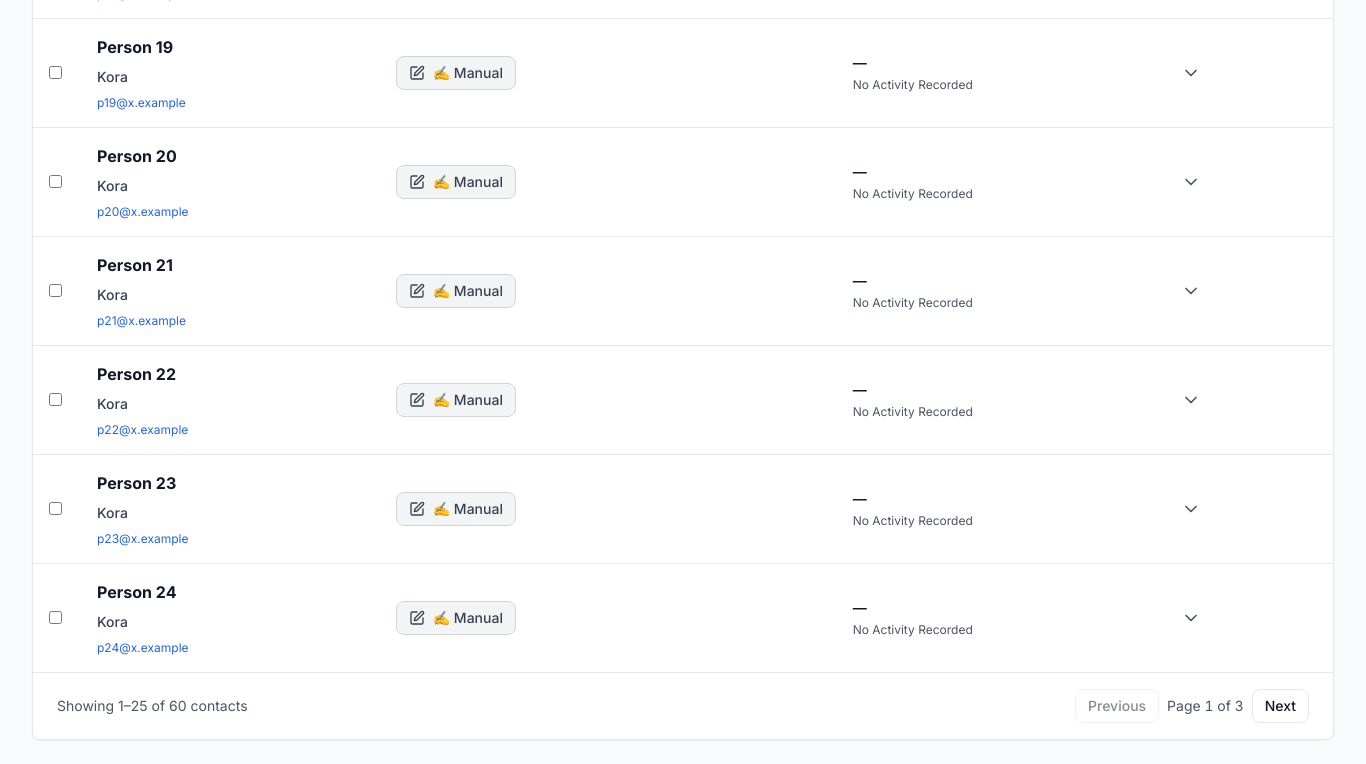
Contacts — one server page at a time › Next asks the server for the next page (the old "Load More" did nothing)
(page scrolled)
Expected: the text "Showing 1–25 of 60 contacts" is shown, [57,696,248,716]
What coordinates should you click on to do the following:
click the button "Next"
I would click on:
 (1280, 706)
Its box is [1252,689,1309,723].
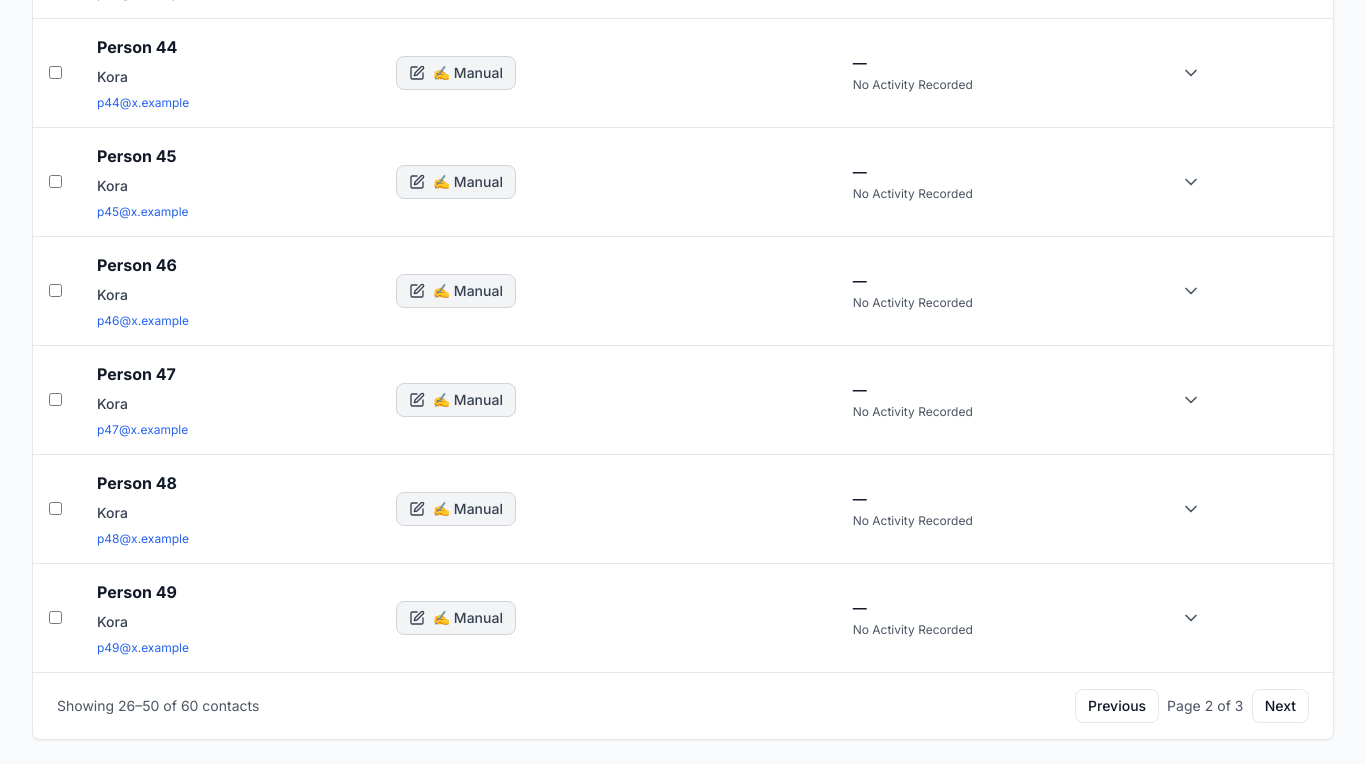
Expected: the text "Showing 26–50 of 60 contacts" is shown, [57,696,259,716]
